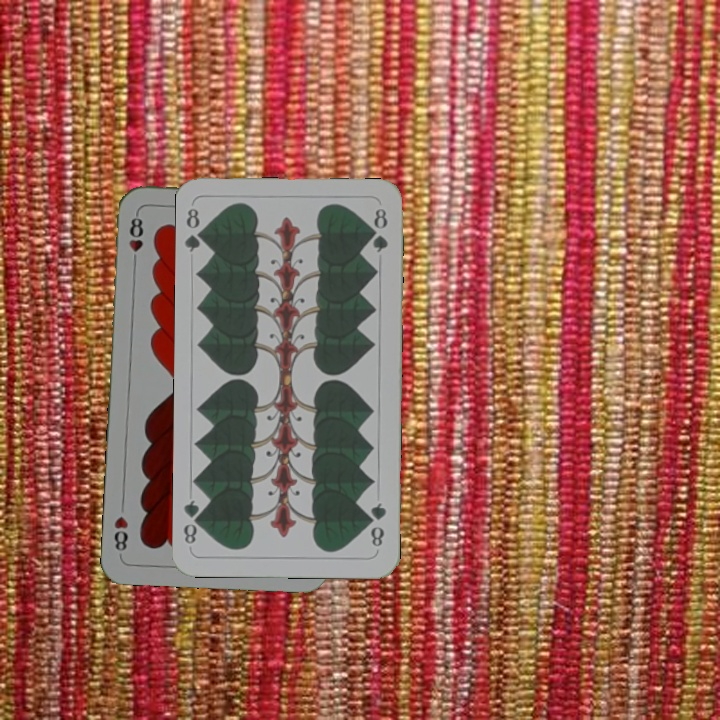G8: (182, 204, 209, 254), (365, 498, 389, 549)
H8: (125, 209, 146, 268)
